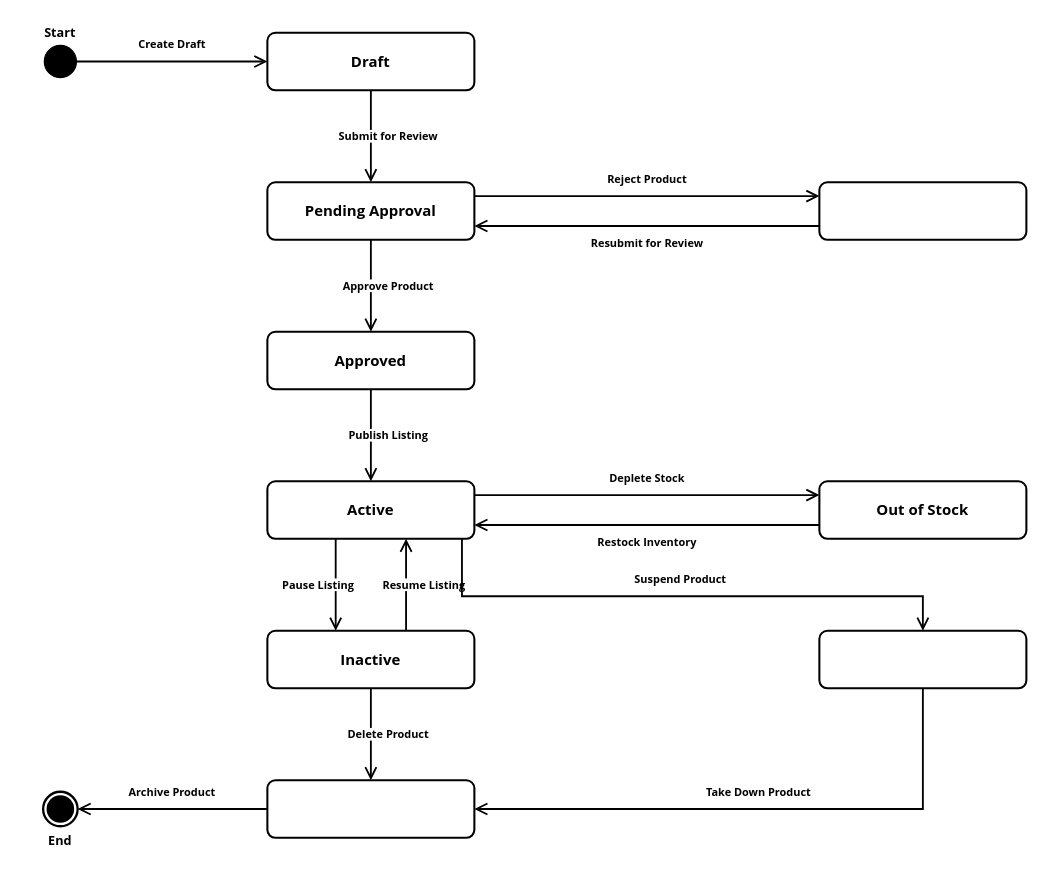
Some shapes in this 1047 by 871 pixel diagram are drawn without their labels. The shapes that lost their labels are listed below. From the top down, each one's centre as x and y in pixels, then its label:
At pixel 922 210: "Rejected".
At pixel 922 659: "Suspended".
At pixel 370 808: "Deleted".
